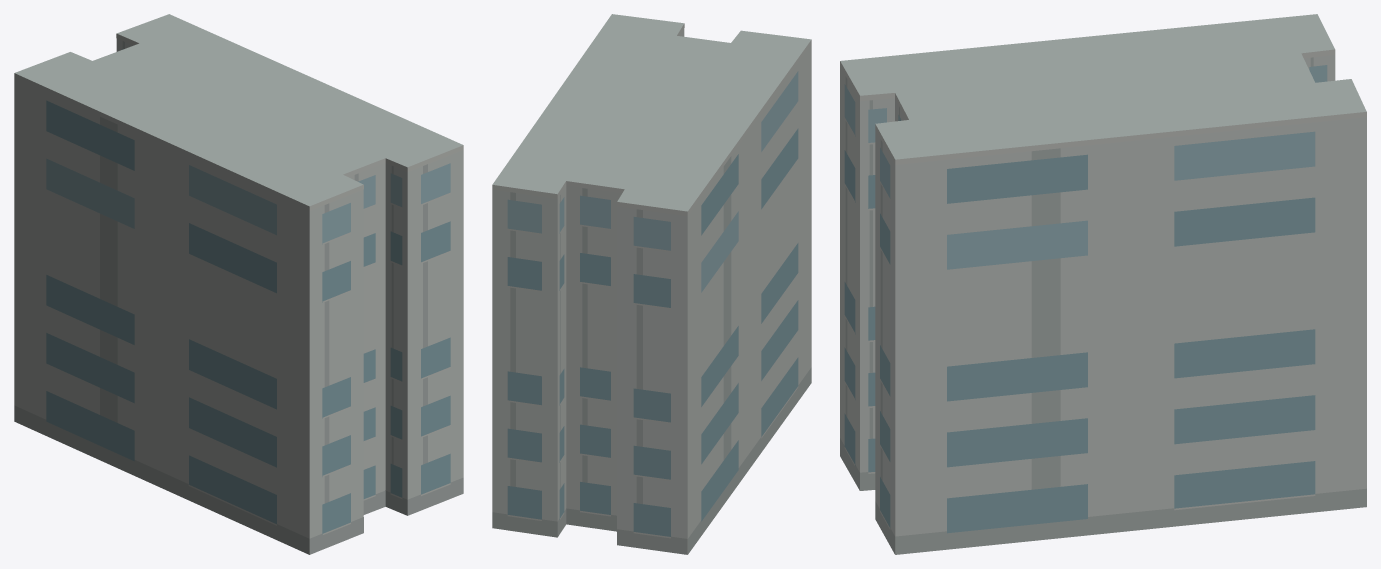
The model's file is survey-upis-32798801.glb.
3 views of the same model, side by side, from view 1: azimuth 30°, elevation 25°; view 2: azimuth 150°, elevation 25°; view 3: azimuth 270°, elevation 25° (orthographic). The views are drawn at different scales.
Parts seen in each view (by area): view 1: survey-upis-32798801.tmp; view 2: survey-upis-32798801.tmp; view 3: survey-upis-32798801.tmp.
Boxes of the visible parts, left/top/right/bottom form: survey-upis-32798801.tmp: left=14, top=14, right=463, bottom=554; survey-upis-32798801.tmp: left=492, top=14, right=811, bottom=554; survey-upis-32798801.tmp: left=840, top=14, right=1366, bottom=554.
Bounding box in the file's own units: 13.99 × 17.7 × 21.39.
